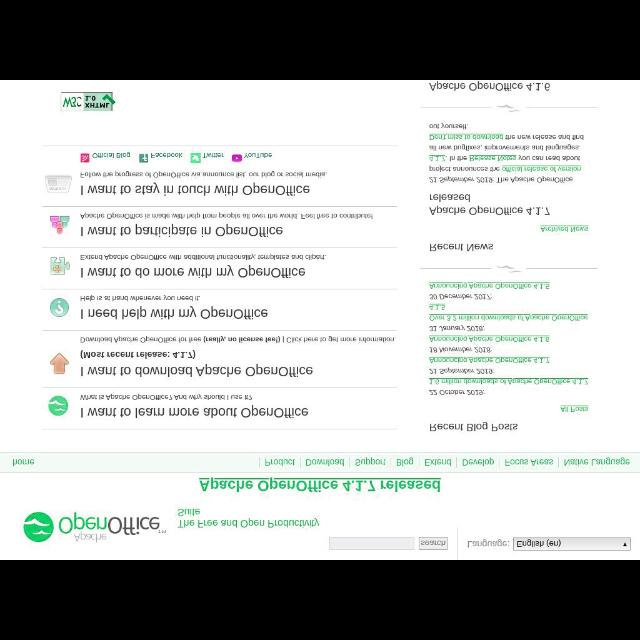image: (25, 510, 169, 542), (58, 91, 112, 111), (44, 170, 76, 197), (45, 350, 73, 378), (41, 393, 71, 419), (46, 252, 72, 278), (48, 297, 70, 319), (49, 214, 71, 236), (78, 152, 92, 164), (138, 152, 148, 164), (190, 154, 202, 162), (232, 154, 242, 162)
input: (330, 537, 414, 549)
multitab: (7, 454, 639, 474)
spinner: (512, 539, 630, 549)
text: (429, 118, 586, 186), (76, 349, 314, 378), (82, 264, 304, 282), (198, 478, 444, 492), (176, 509, 324, 531), (82, 336, 394, 346), (80, 185, 310, 198), (80, 210, 374, 220), (428, 195, 550, 218), (80, 170, 328, 180), (81, 252, 327, 260), (75, 308, 268, 318), (78, 409, 308, 417), (79, 392, 253, 402), (428, 376, 590, 386), (429, 313, 589, 323), (429, 82, 548, 94), (81, 292, 199, 304), (430, 356, 550, 366), (563, 456, 631, 468), (429, 337, 553, 343), (428, 284, 552, 290), (430, 242, 492, 252), (540, 223, 592, 233), (502, 458, 554, 467), (464, 539, 508, 549), (306, 458, 344, 468), (430, 292, 490, 298), (355, 457, 385, 467), (12, 458, 38, 468), (264, 458, 296, 466), (462, 458, 492, 466), (92, 152, 132, 158), (422, 459, 452, 466), (151, 152, 183, 158), (244, 152, 272, 158), (428, 303, 446, 311), (398, 458, 414, 466), (204, 152, 222, 158)
textbutton: (418, 537, 448, 549)
toolbar: (2, 509, 636, 556)
